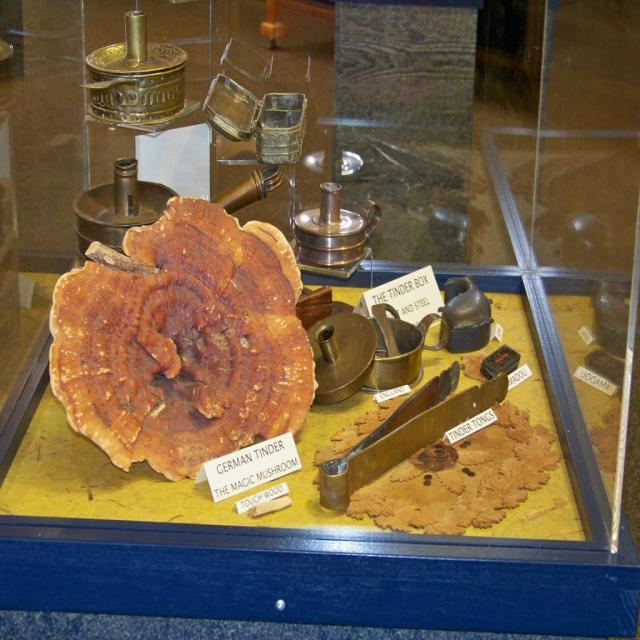Mushroom: (47, 212, 299, 490)
